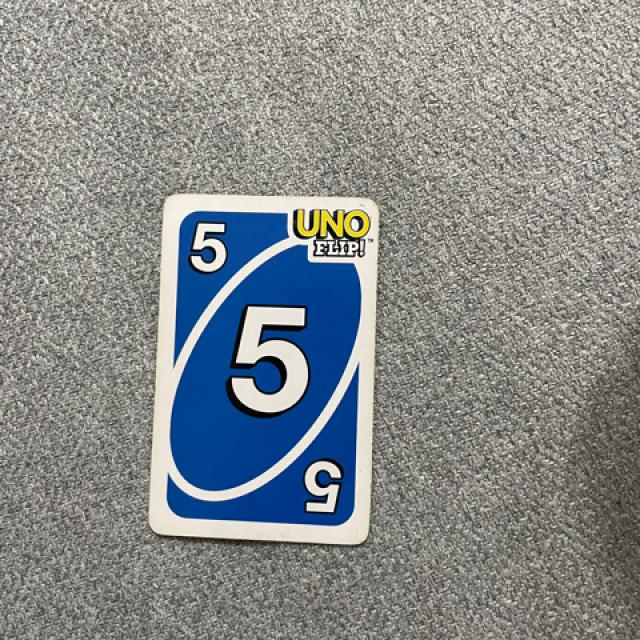lblue-5: (174, 206, 241, 290)
